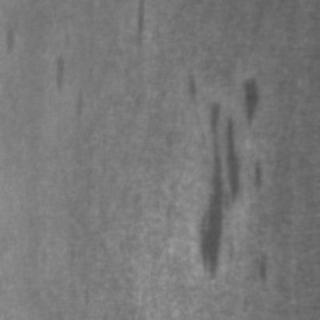inclusion: (191, 91, 245, 286), (44, 50, 96, 122), (236, 71, 270, 133), (125, 0, 152, 58)
